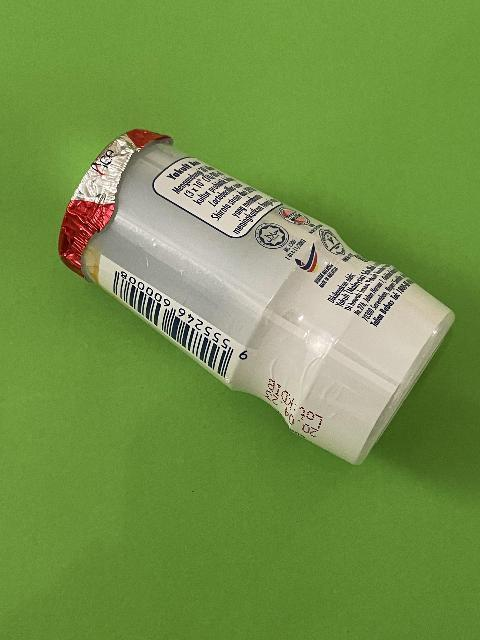plasticbottle: (56, 127, 456, 467)
